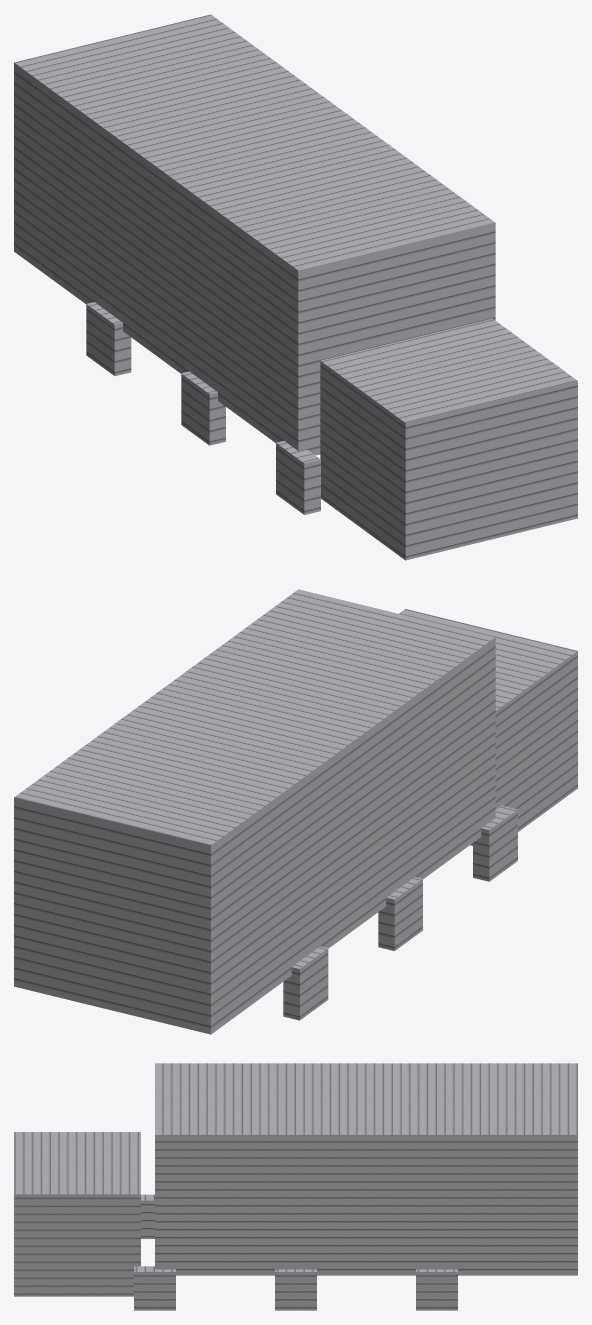
Rendered from vehicle_school_bus.glb.
3 views of the same model, one above another, from view 1: azimuth 30°, elevation 25°; view 2: azimuth 150°, elevation 25°; view 3: azimuth 270°, elevation 25° (orthographic). The views are drawn at different scales.
Visible parts, largest first — view 1: vehicle_school_bus-col; view 2: vehicle_school_bus-col; view 3: vehicle_school_bus-col.
Part boxes in pixels (box(x1,y1,x2,y2)): vehicle_school_bus-col: box(14, 14, 577, 560); vehicle_school_bus-col: box(14, 589, 577, 1034); vehicle_school_bus-col: box(14, 1063, 577, 1310).
Bounding box in the file's own units: 2.6 × 2.7 × 8.
1 material, 1 textured.
